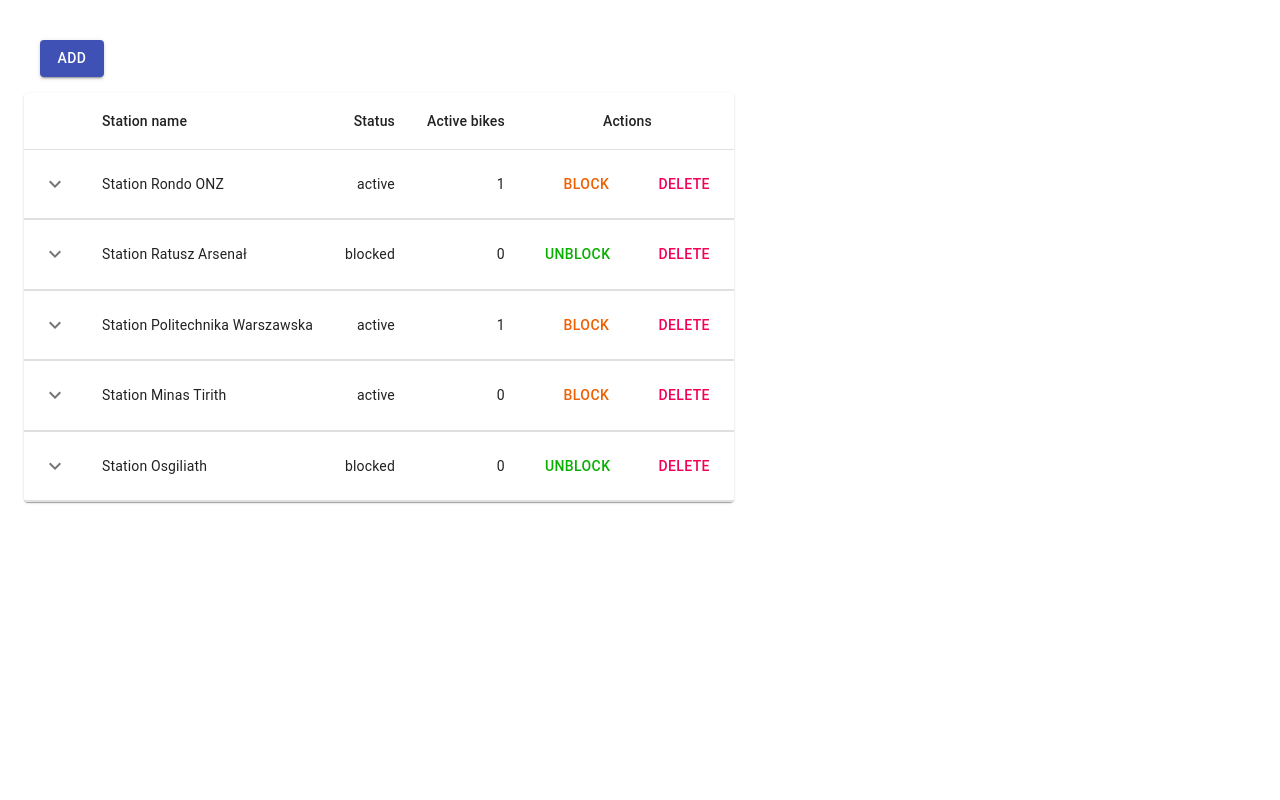
Test: Clicking add shows a modal dialog
The image size is (1280, 800).
Click the button "Add".
click(72, 58)  # box [40,40,104,76]
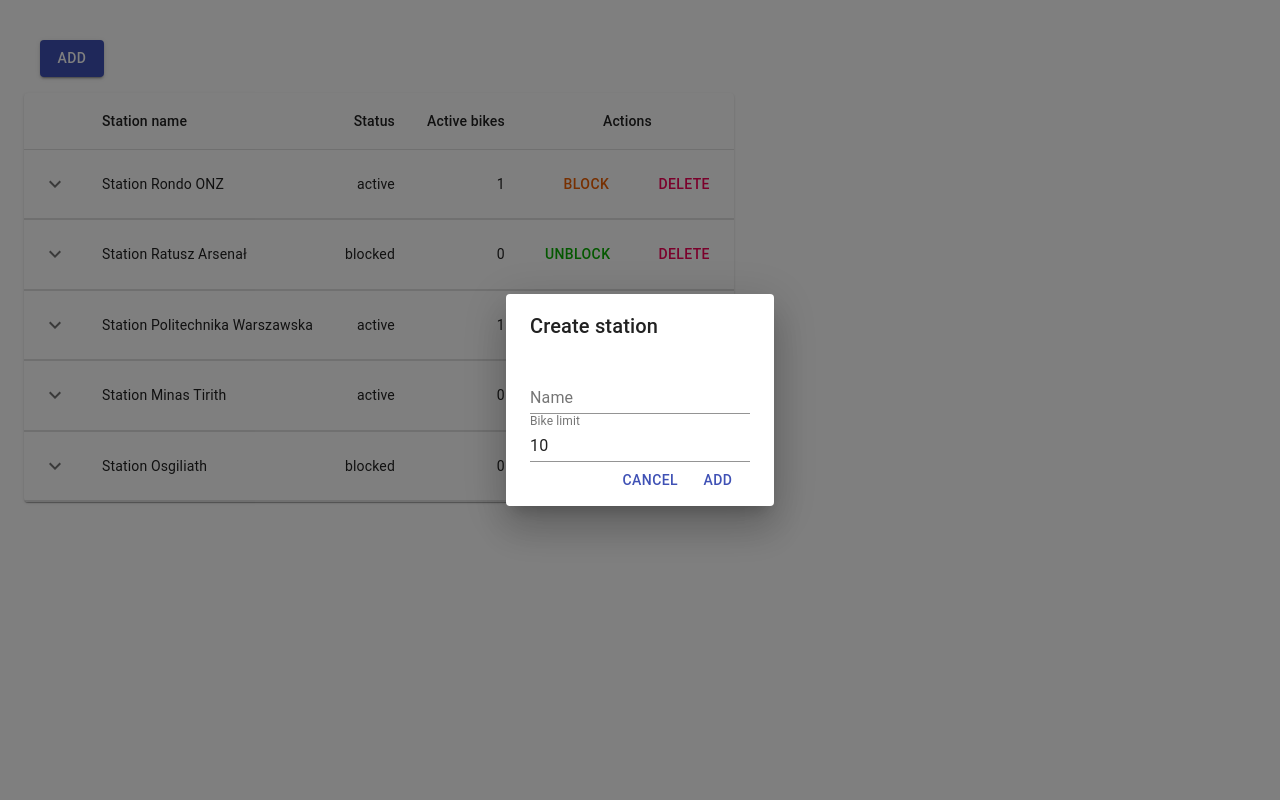
Now the dialog is shown, box [506,294,774,506]
